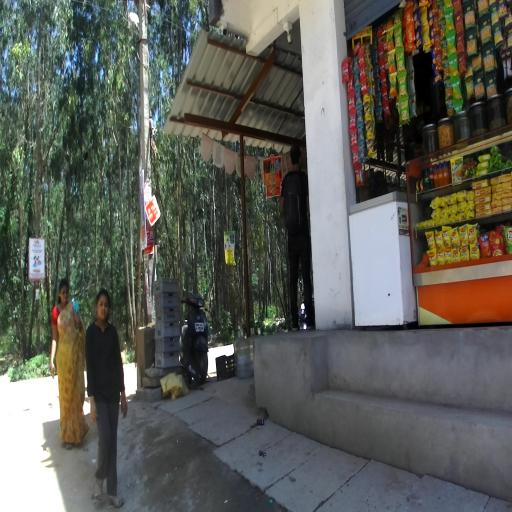street_light_0: (128, 11, 150, 52)
